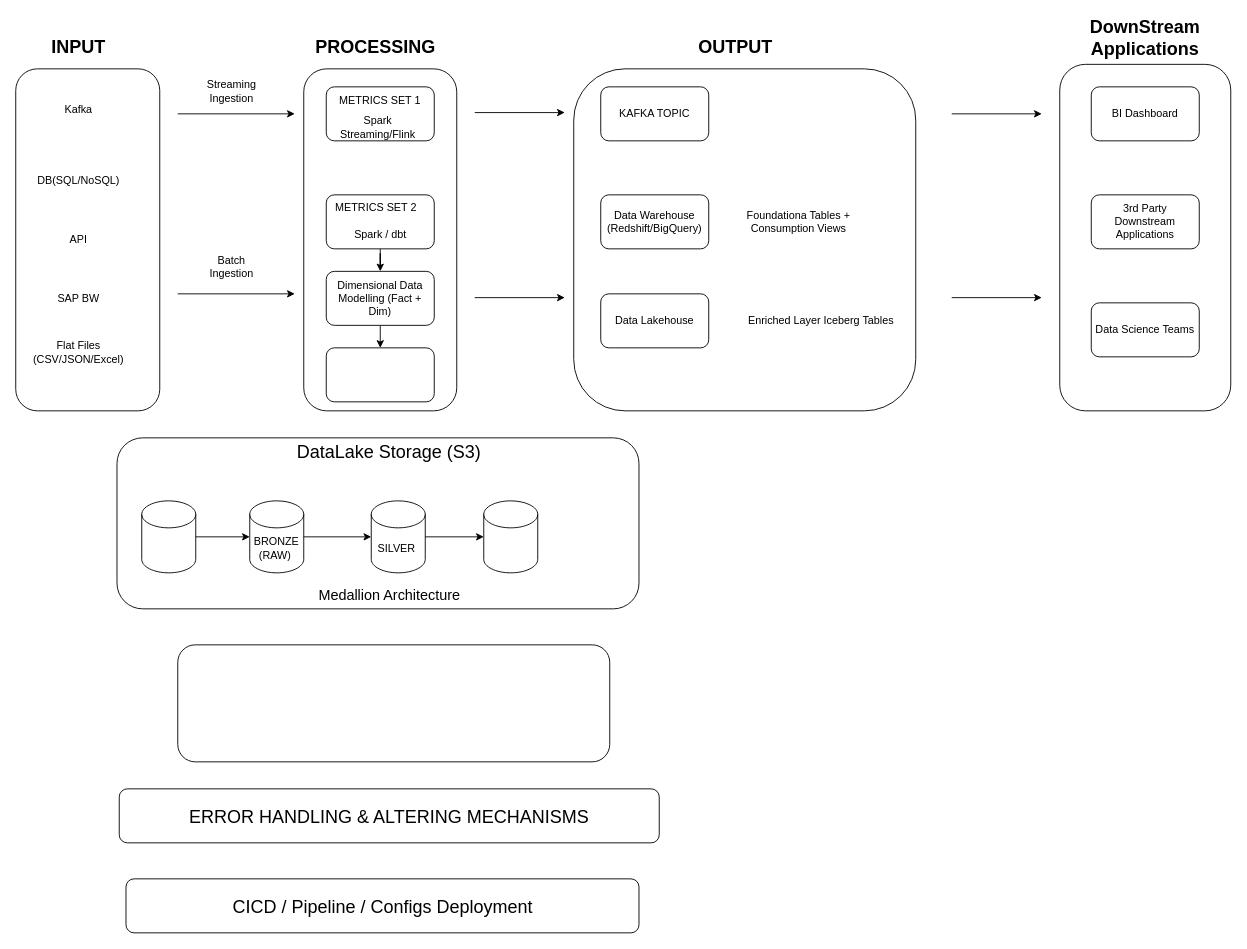
This 1247x949 diagram has some shape labels left out. Each missing label, with the centre of its shape:
"Business Use Cases ETL Logics" goes at (379,374).
"GOLD" goes at (510,536).
"LANDING" goes at (168,536).
"ORCHESTRATION (Airflow / S3 Event Notification + EventBridge)" goes at (393,703).
